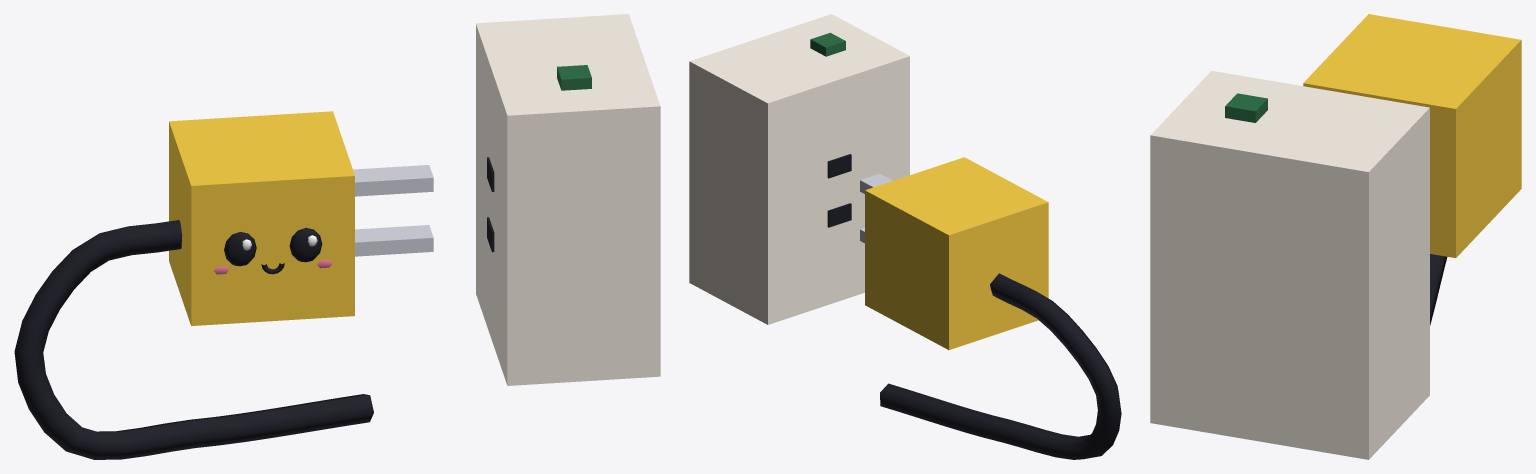
The model's file is 05-10-plugins.obj.
3 views of the same model, side by side, from view 1: azimuth 30°, elevation 25°; view 2: azimuth 150°, elevation 25°; view 3: azimuth 270°, elevation 25° (orthographic). The views are drawn at different scales.
Parts seen in each view (by area): view 1: socket, plugBody, cord, prong, eye, led; view 2: socket, plugBody, cord, socketHole, led; view 3: socket, plugBody, led, cord.
Boxes of the visible parts, left/top/right/bottom form: socket: left=476, top=14, right=660, bottom=385; plugBody: left=169, top=111, right=354, bottom=325; cord: left=14, top=220, right=373, bottom=459; prong: left=353, top=165, right=433, bottom=256; eye: left=224, top=228, right=322, bottom=266; led: left=557, top=65, right=591, bottom=90; socket: left=689, top=14, right=909, bottom=324; plugBody: left=865, top=157, right=1048, bottom=349; cord: left=880, top=273, right=1121, bottom=459; socketHole: left=827, top=154, right=851, bottom=227; led: left=810, top=32, right=845, bottom=56; socket: left=1150, top=70, right=1429, bottom=459; plugBody: left=1303, top=14, right=1521, bottom=257; led: left=1225, top=93, right=1267, bottom=122; cord: left=1430, top=254, right=1447, bottom=325.
Size of the model in its own units: 2.97 by 1.82 by 1.58.
